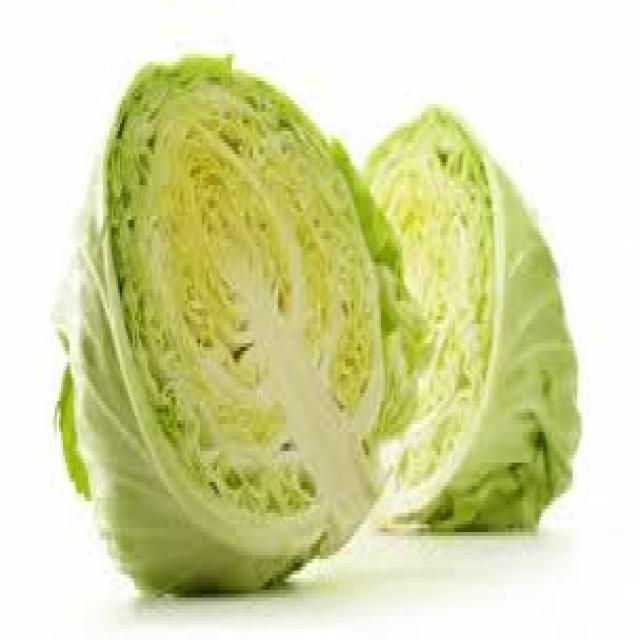cabbage: (47, 44, 419, 616), (356, 98, 590, 541)
